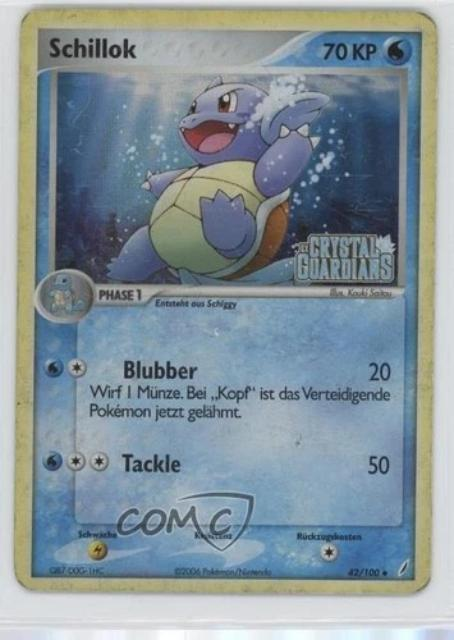Card: (5, 1, 448, 598)
Name: (42, 29, 141, 64)
